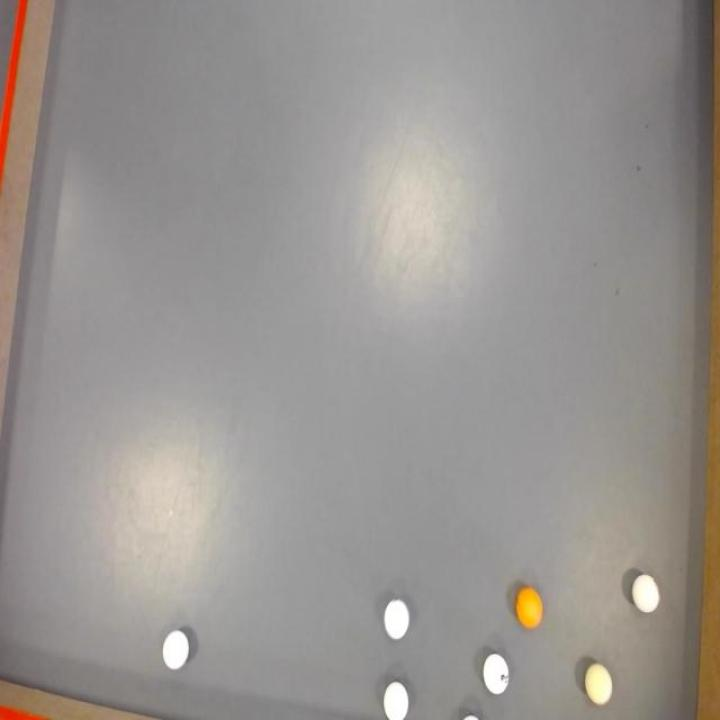orange: (512, 582, 544, 630)
white: (480, 650, 514, 698), (585, 660, 617, 710), (632, 568, 660, 618), (382, 595, 410, 641), (162, 630, 189, 672), (383, 682, 408, 720)
